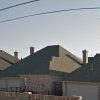Chimney: (75, 45, 92, 61)
